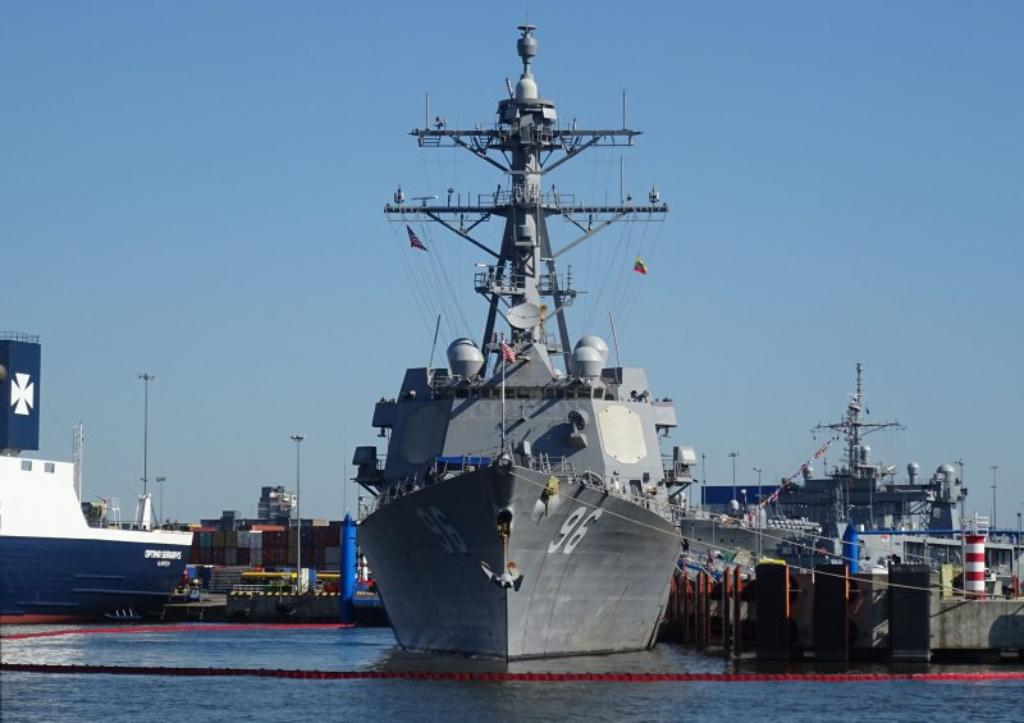Warship: (348, 12, 698, 662)
